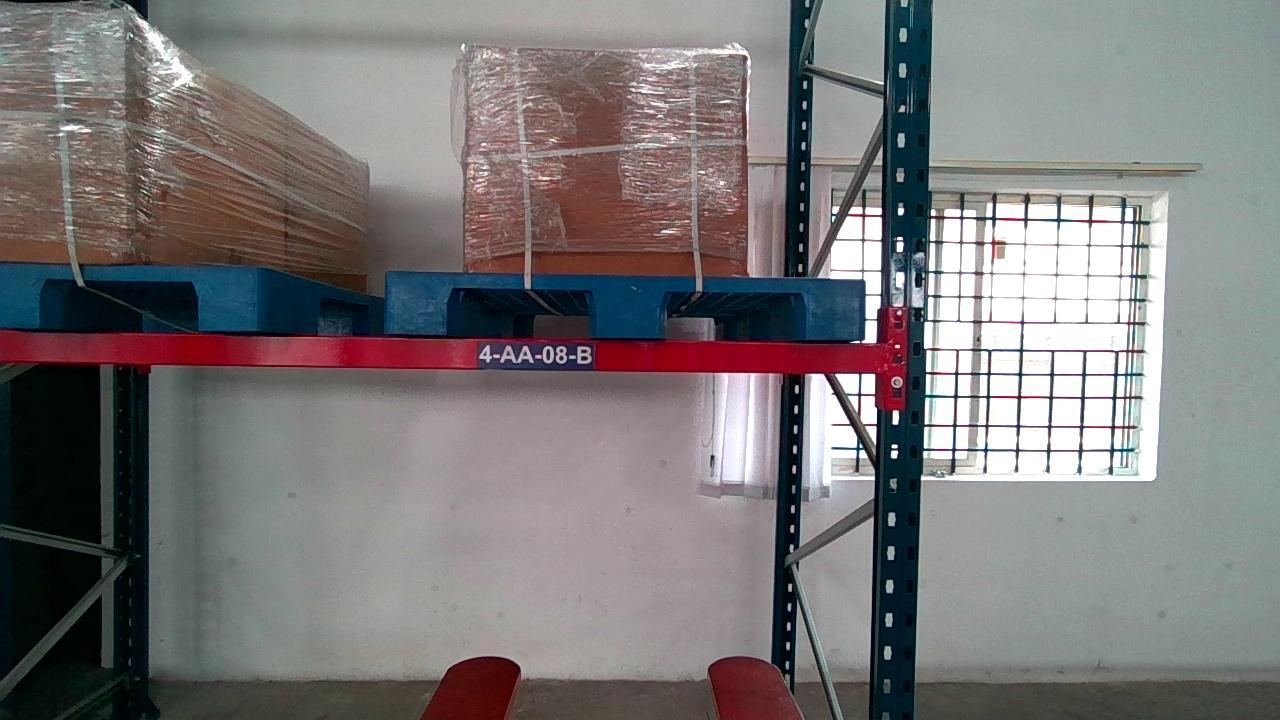h_rack: (0, 329, 889, 372)
small_pallet: (384, 269, 863, 337), (1, 260, 259, 332)
